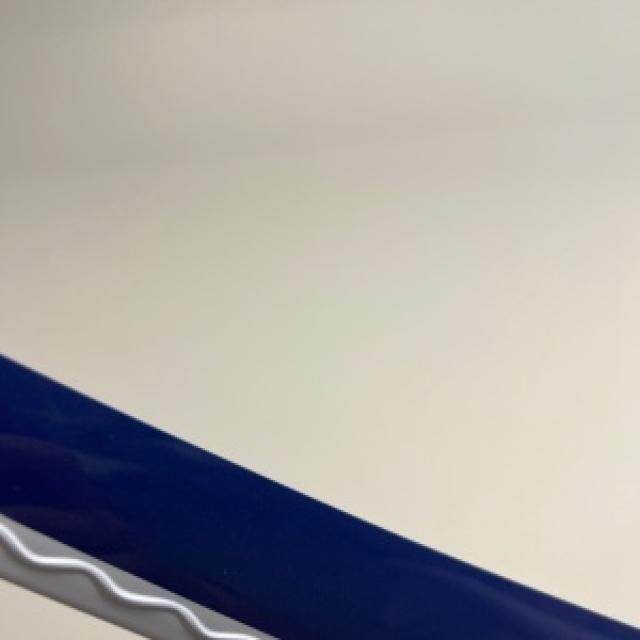healthy: (0, 356, 638, 638)
